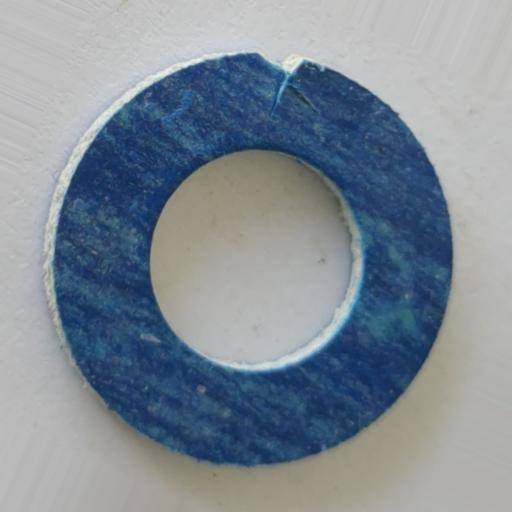defect: (252, 49, 320, 118)
